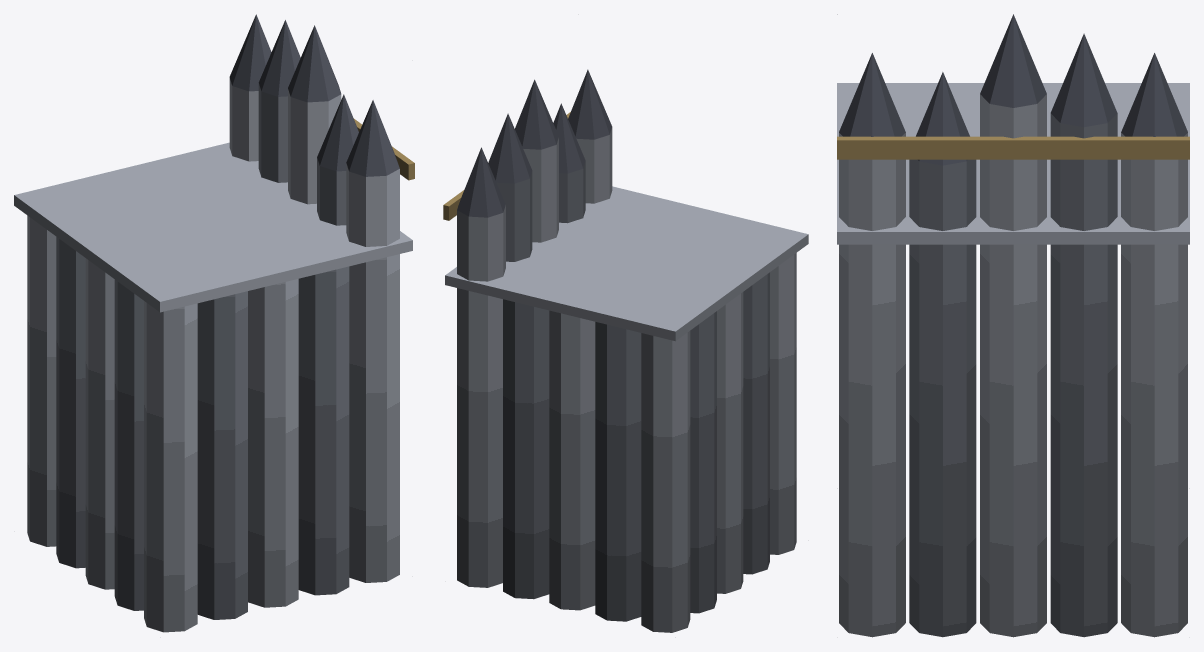
The model's file is perimeter_wall_metal_f13.glb.
The picture shows the model from 3 angles, left to right: view 1: azimuth 30°, elevation 25°; view 2: azimuth 150°, elevation 25°; view 3: azimuth 270°, elevation 25°; orthographic projection. The views are drawn at different scales.
Bounding box in the file's own units: 2.01 × 3.9 × 2.
1 material, 1 textured.
